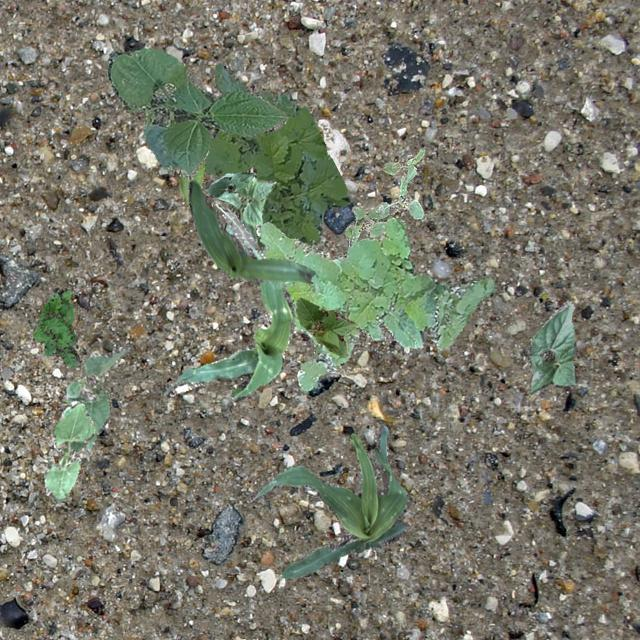crop: (162, 206, 294, 400), (250, 419, 410, 578), (106, 48, 288, 178), (188, 180, 314, 282), (66, 344, 130, 450), (216, 166, 274, 256), (44, 400, 94, 500), (528, 299, 576, 392), (294, 296, 356, 356), (178, 160, 204, 206), (204, 172, 252, 196)
weed: (255, 216, 492, 390), (204, 62, 348, 250), (344, 146, 424, 247), (32, 286, 82, 366)
